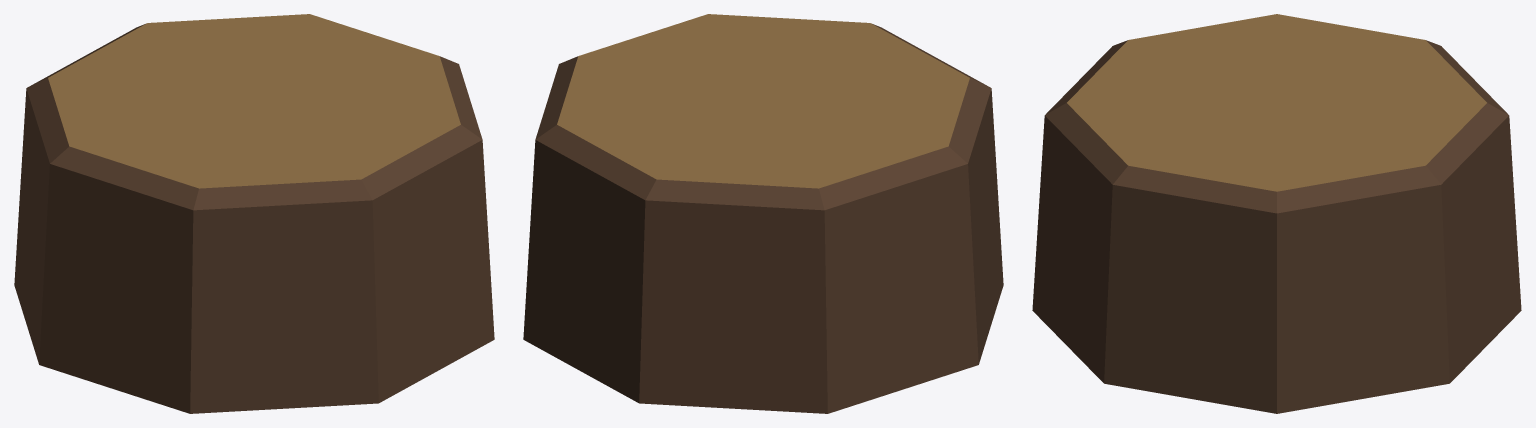
File: WillowStump.glb
3 views of the same model, side by side, from view 1: azimuth 30°, elevation 25°; view 2: azimuth 150°, elevation 25°; view 3: azimuth 270°, elevation 25° (orthographic).
Parts seen in each view (by area): view 1: WillowStump; view 2: WillowStump; view 3: WillowStump.
Boxes of the visible parts, x1=… form: WillowStump: x1=14, y1=14, x2=494, y2=413; WillowStump: x1=523, y1=14, x2=1003, y2=413; WillowStump: x1=1032, y1=14, x2=1521, y2=413.
Size of the model in its own units: 0.64 by 0.3 by 0.64.
